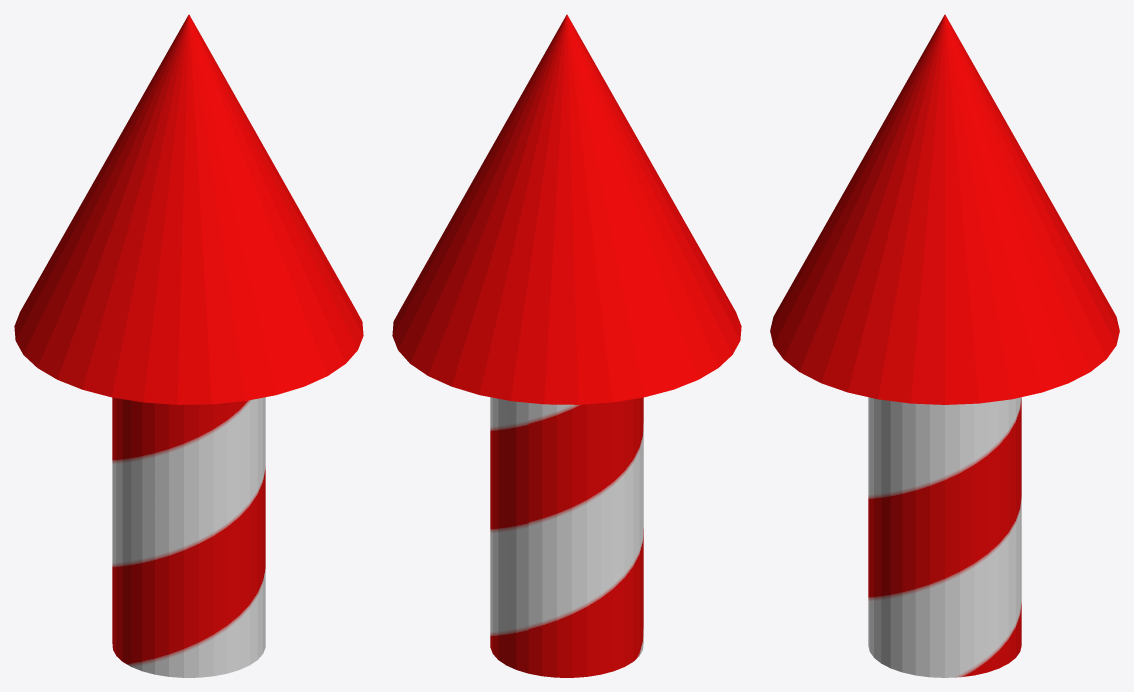
The model's file is rocket.obj.
The picture shows the model from 3 angles, left to right: view 1: azimuth 30°, elevation 25°; view 2: azimuth 150°, elevation 25°; view 3: azimuth 270°, elevation 25°; orthographic projection.
Parts seen in each view (by area): view 1: Cone_Material, Cylinder.001_Material; view 2: Cone_Material, Cylinder.001_Material; view 3: Cone_Material, Cylinder.001_Material.
Boxes of the visible parts, x1,y1,x2,y2 form: Cone_Material: [14, 14, 363, 404]; Cylinder.001_Material: [112, 397, 265, 677]; Cone_Material: [392, 14, 741, 404]; Cylinder.001_Material: [490, 397, 643, 677]; Cone_Material: [770, 14, 1119, 404]; Cylinder.001_Material: [868, 397, 1021, 677].
Bounding box in the file's own units: 2 × 3.98 × 2.
